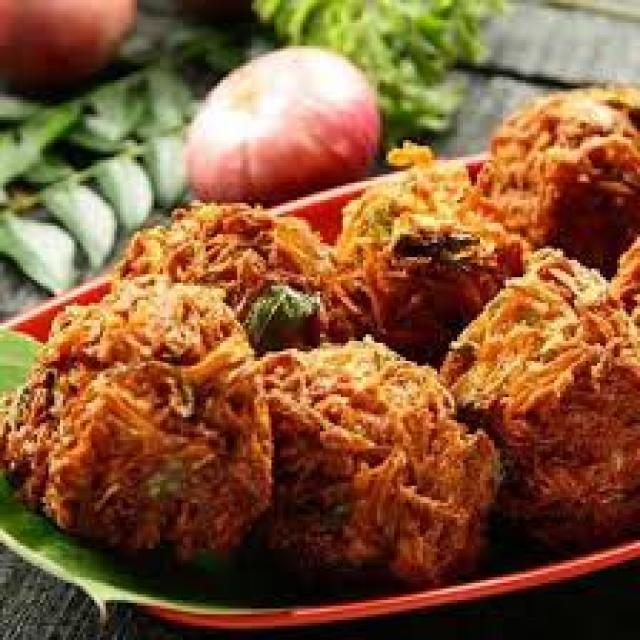BAJI: (0, 78, 637, 577)
